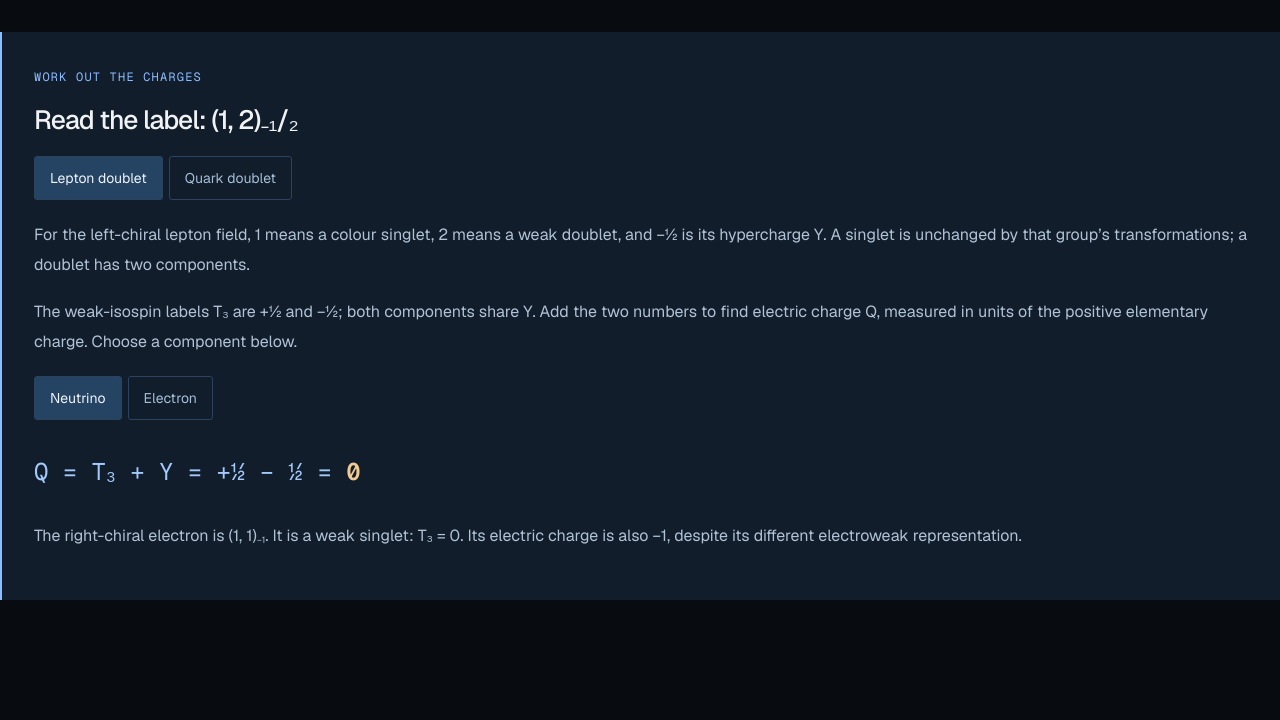
Test: physics explanations and their working examples › calculates both lepton and quark doublets using the anomaly exhibit’s hypercharges
Click the button "Electron" at [170, 398], box [128,376,213,420]
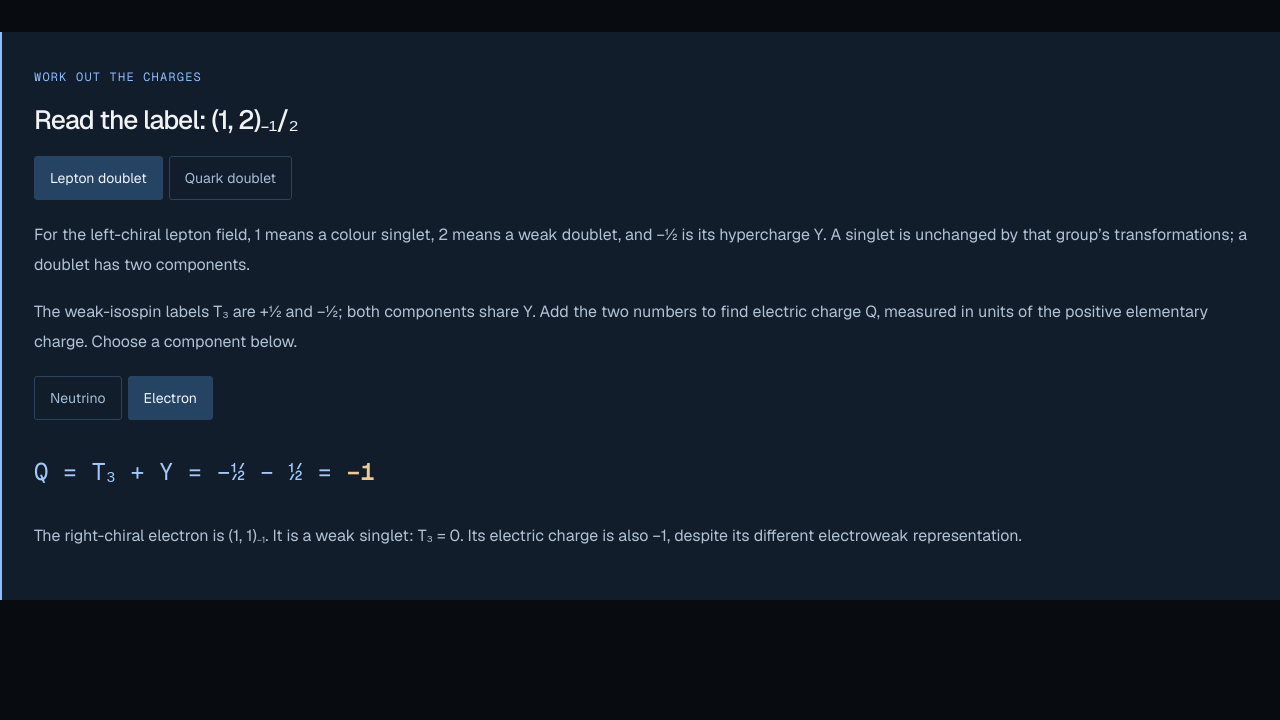
Expected: the element named "Calculated electric charge" reads "Q = T₃ + Y = −½ − ½ = −1", [34,456,375,487]
Click the button "Quark doublet" at [230, 178], box [169,156,292,200]
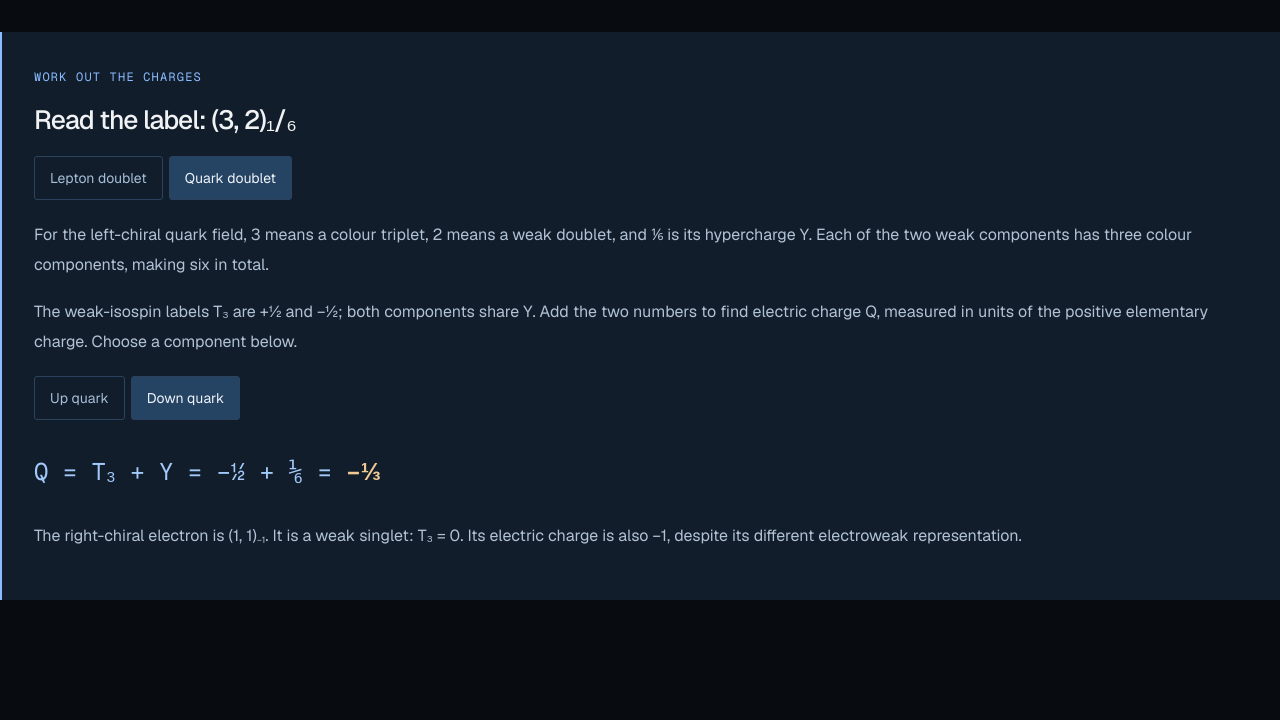
Expected: the element named "Calculated electric charge" reads "Q = T₃ + Y = −½ + ⅙ = −⅓", [34,456,381,487]
Click the button "Up quark" at [79, 398], box [34,376,125,420]
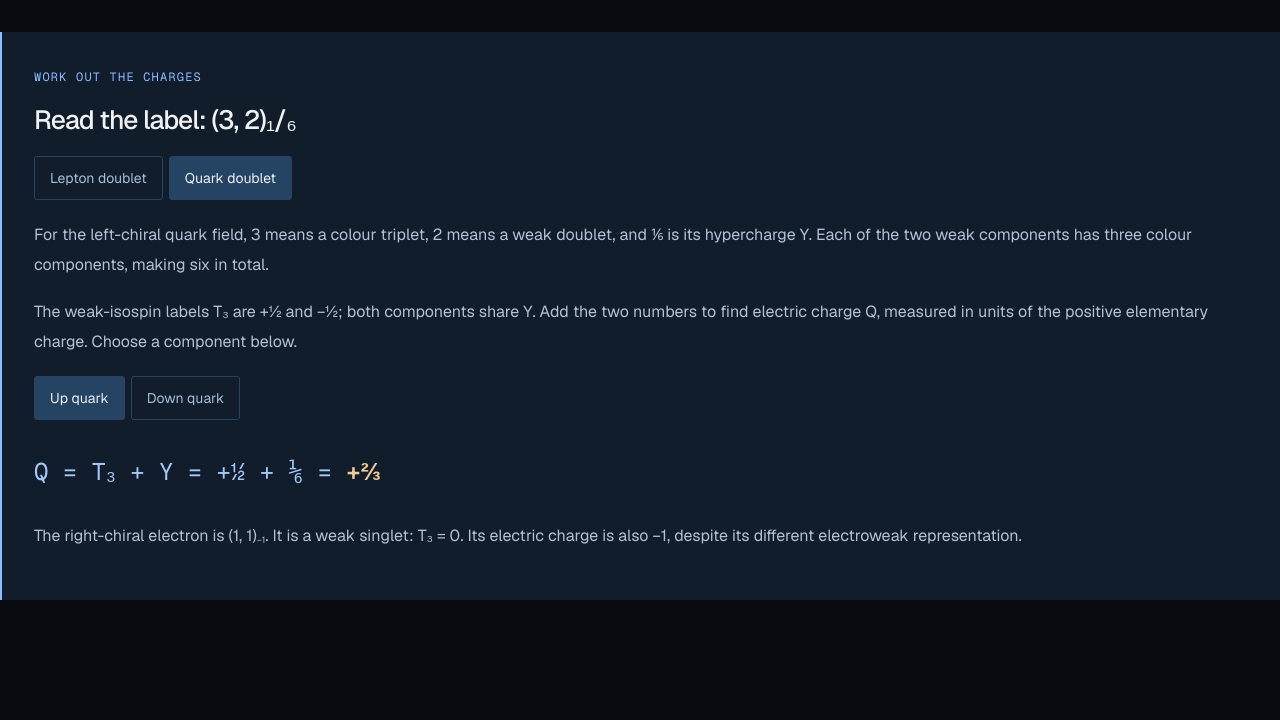
Expected: the element named "Calculated electric charge" reads "Q = T₃ + Y = +½ + ⅙ = +⅔", [34,456,381,487]
Click the button "Lepton doublet" at [98, 178], box [34,156,163,200]
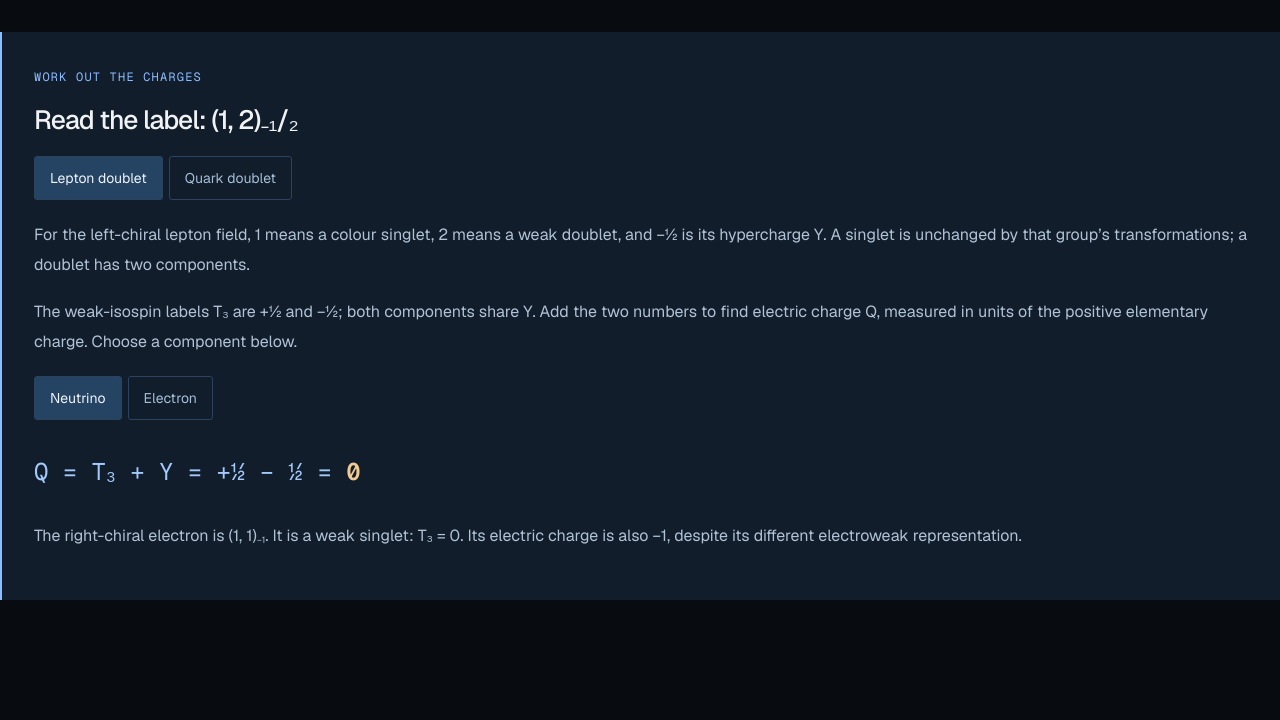
Expected: the element named "Calculated electric charge" reads "Q = T₃ + Y = +½ − ½ = 0", [34,456,361,487]
